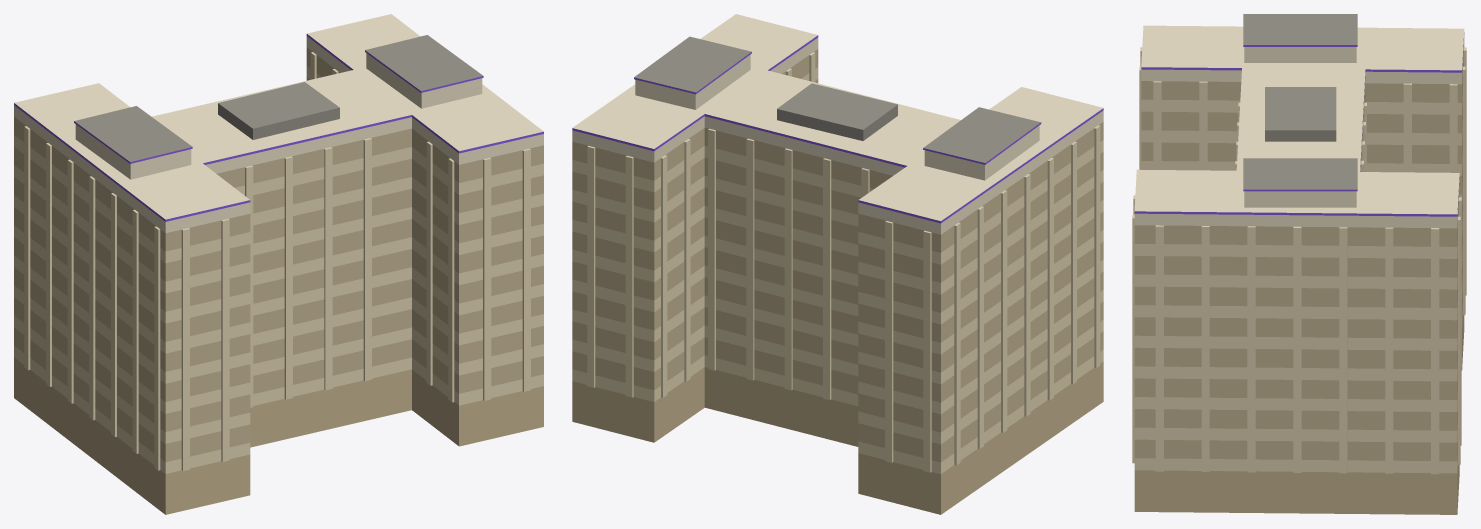
File: hilton_vacation_club_p_w27897911.glb
3 views of the same model, side by side, from view 1: azimuth 30°, elevation 25°; view 2: azimuth 150°, elevation 25°; view 3: azimuth 270°, elevation 25° (orthographic). The views are drawn at different scales.
Visible parts, largest first — view 1: Tower; view 2: Tower; view 3: Tower.
Part boxes in pixels (x1=…): Tower: x1=14, y1=14, x2=543, y2=514; Tower: x1=572, y1=14, x2=1103, y2=514; Tower: x1=1132, y1=14, x2=1466, y2=514.
Size of the model in its own units: 88.45 by 69 by 65.53.
